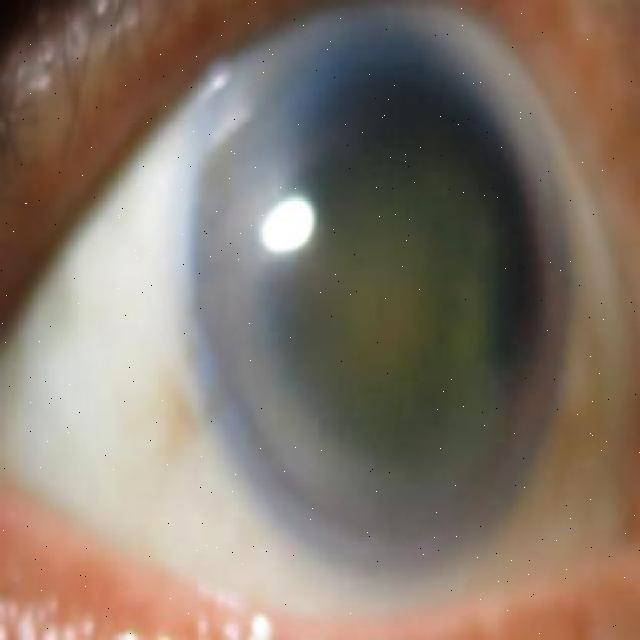Cataract: (197, 0, 573, 591)
